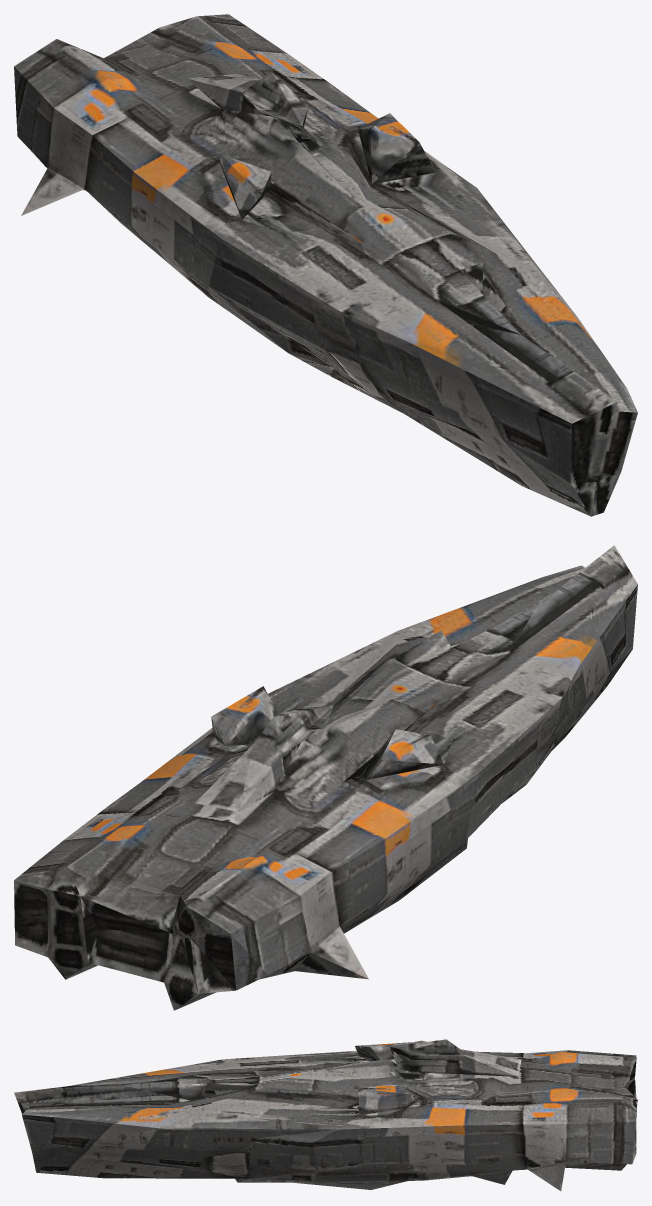
Rendered from battleship-far.glb.
The picture shows the model from 3 angles, top to bottom: view 1: azimuth 30°, elevation 25°; view 2: azimuth 150°, elevation 25°; view 3: azimuth 270°, elevation 25°; orthographic projection. The views are drawn at different scales.
Visible parts, largest first — view 1: Low; view 2: Low; view 3: Low.
Boxes of the visible parts, x1,y1,x2,y2 form: Low: (14, 14, 637, 516); Low: (14, 545, 637, 1010); Low: (14, 1039, 637, 1191).
Bounding box in the file's own units: 0.7569 × 0.4701 × 1.92.
Materials: 1 (1 with a texture image).
